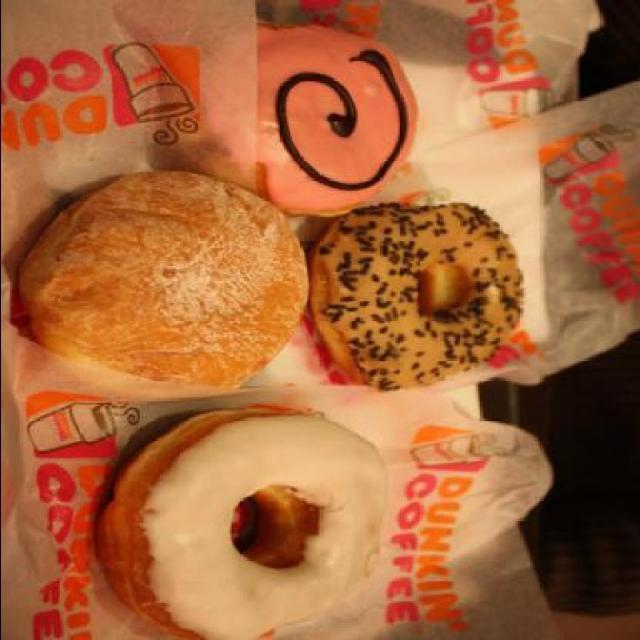Donuts: (2, 27, 530, 639)
